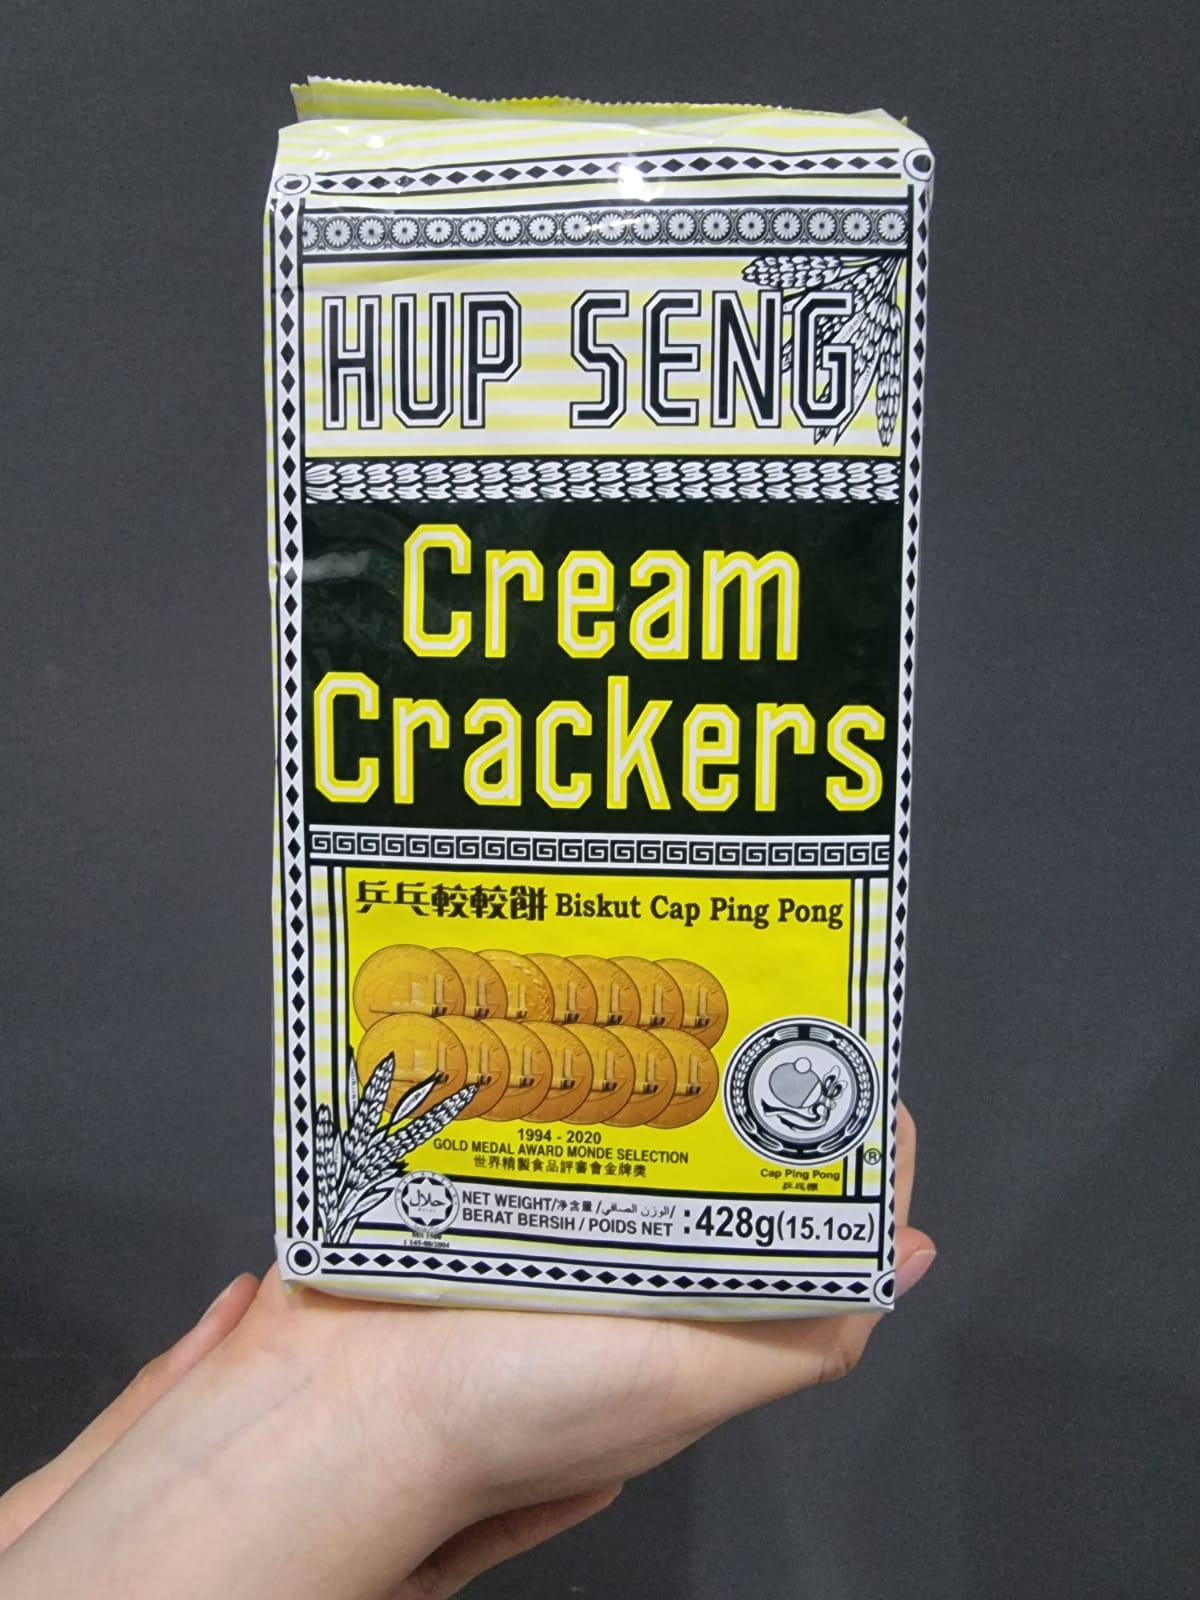Biscuits: (284, 154, 897, 1301)
